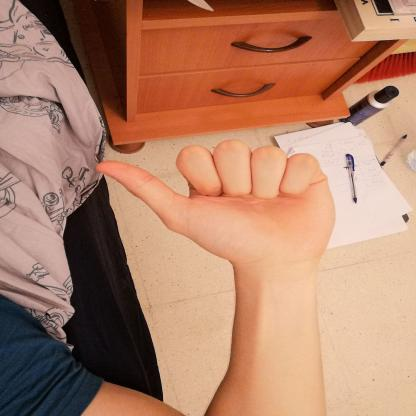DAD: (82, 132, 358, 275)
